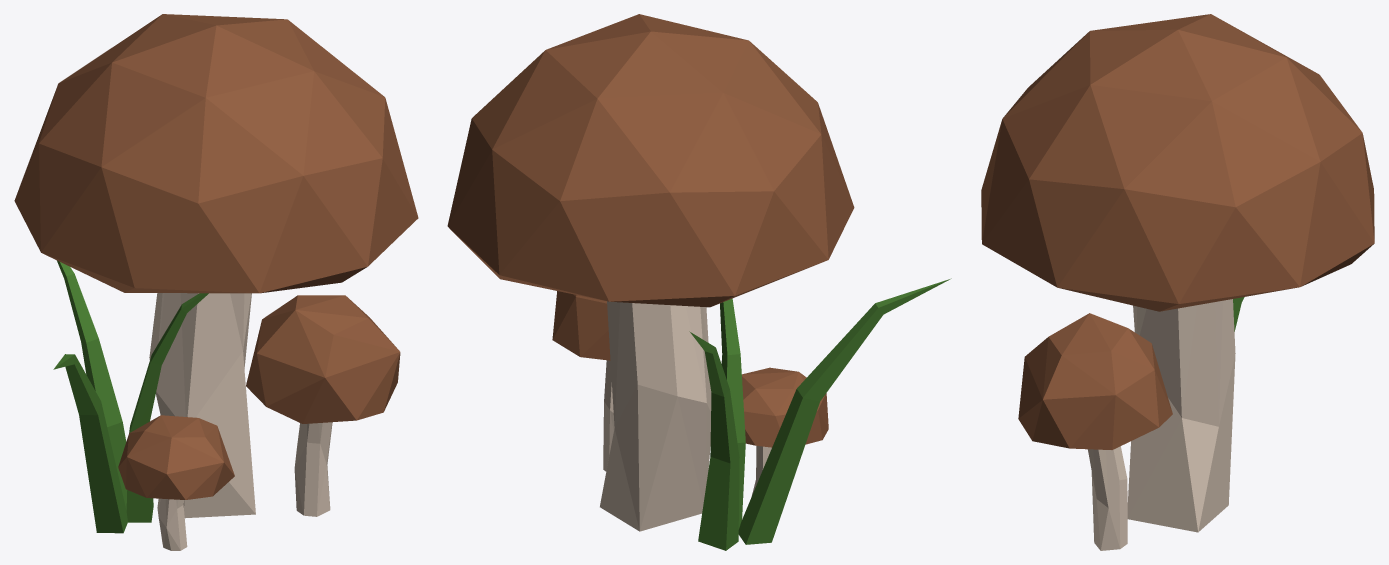
Rendered from mushroom-01.glb.
3 renders of one model, left to right at view 1: azimuth 30°, elevation 25°; view 2: azimuth 150°, elevation 25°; view 3: azimuth 270°, elevation 25°, orthographic.
Parts seen in each view (by area): view 1: Mushrooms_grass; view 2: Mushrooms_grass; view 3: Mushrooms_grass.
Part boxes in pixels (x1,y1,x2,y2): Mushrooms_grass: (14,14,418,550); Mushrooms_grass: (447,14,951,550); Mushrooms_grass: (981,14,1374,550).
Size of the model in its own units: 0.9124 by 1.02 by 0.7508.
